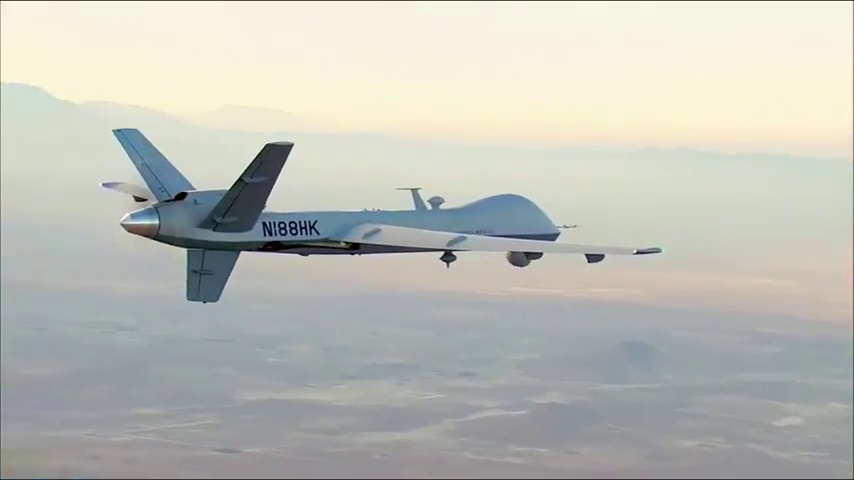military drone: (97, 127, 662, 302)
